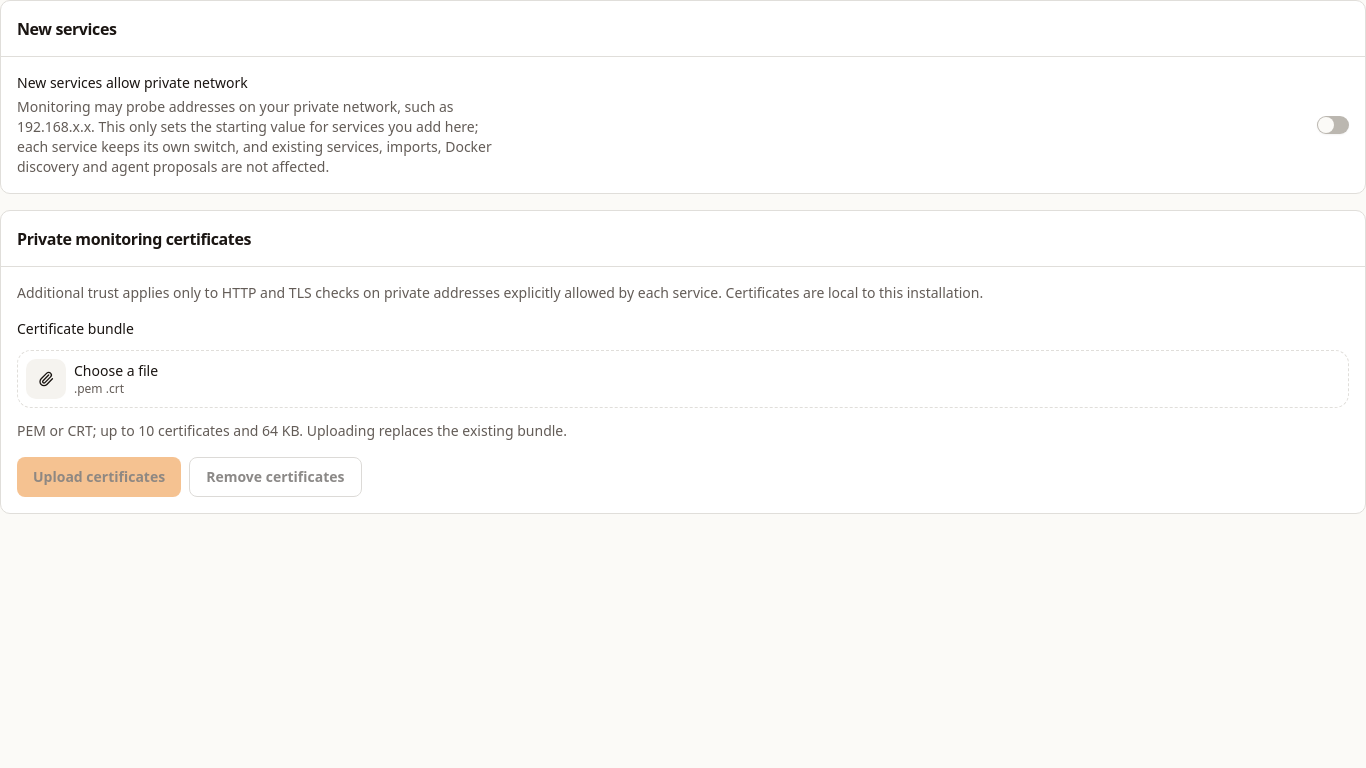
Scenario: keeps the previous value and reports an error when saving fails
Click the switch named "New services allow private network": (1333, 125) [1317, 116, 1349, 134]
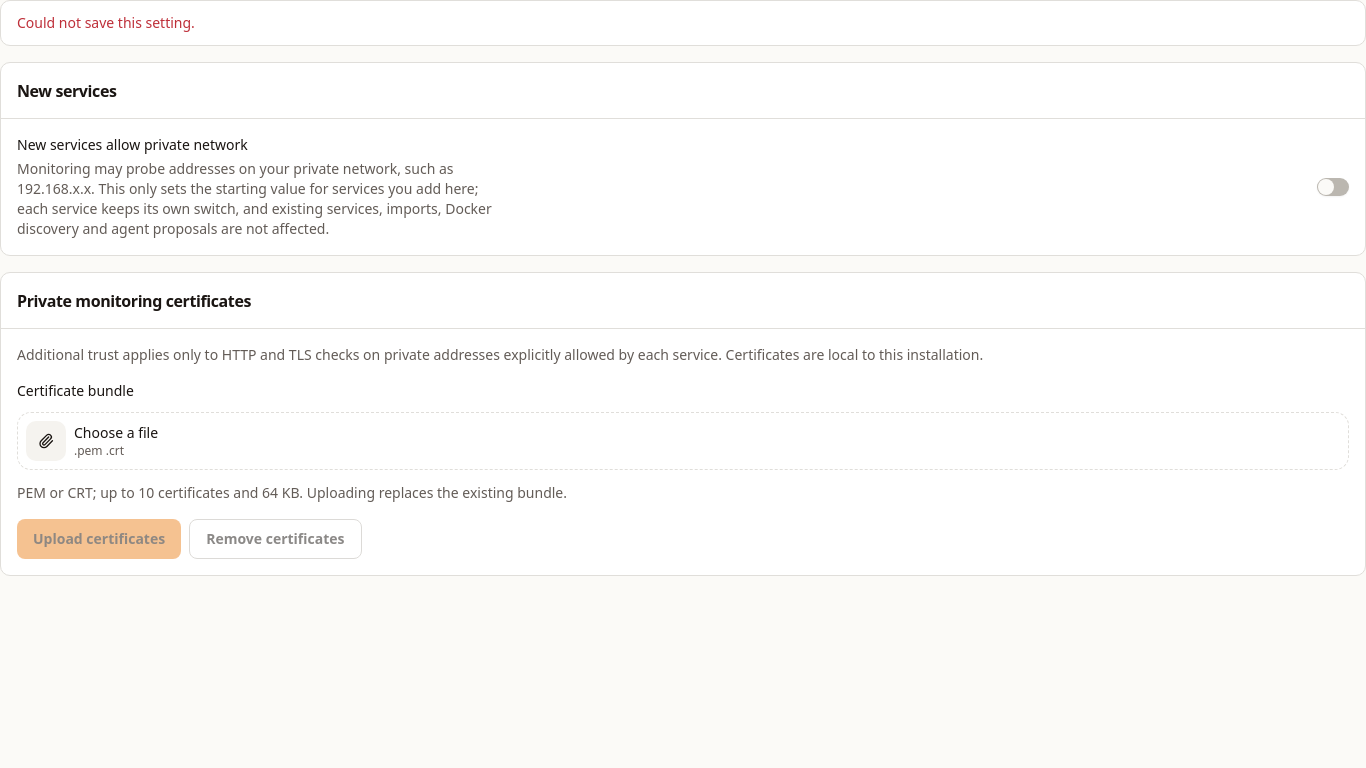
Expected: the text "Could not save this setting." is shown, [17, 13, 195, 32]
